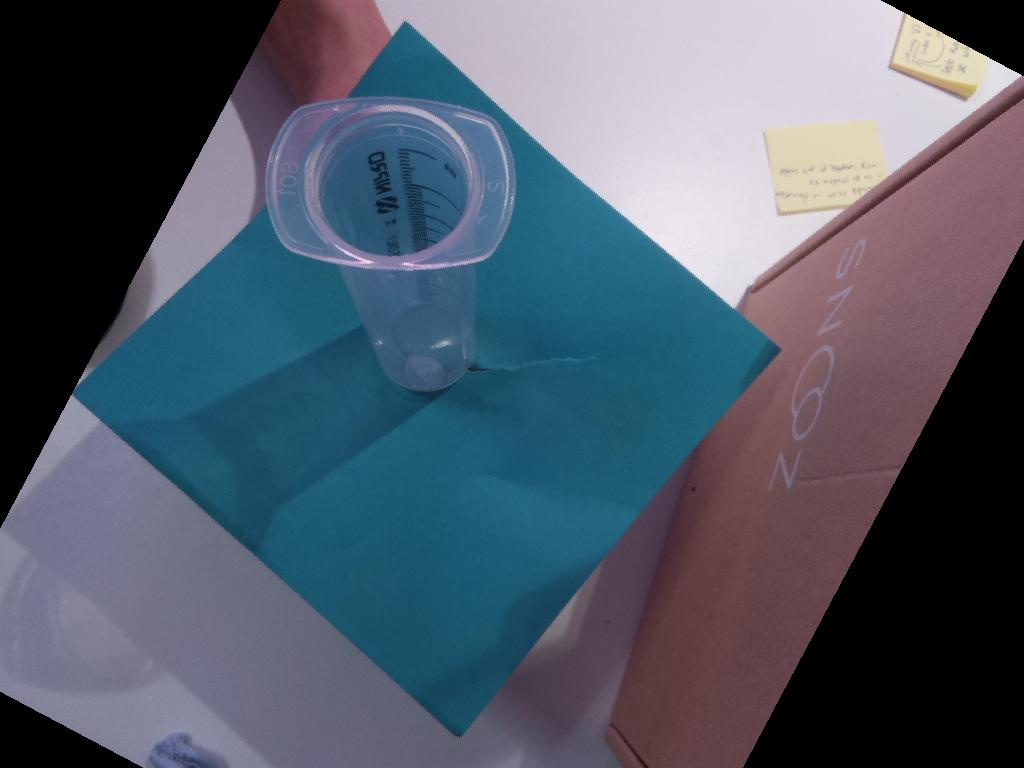clean: (265, 99, 520, 271)
